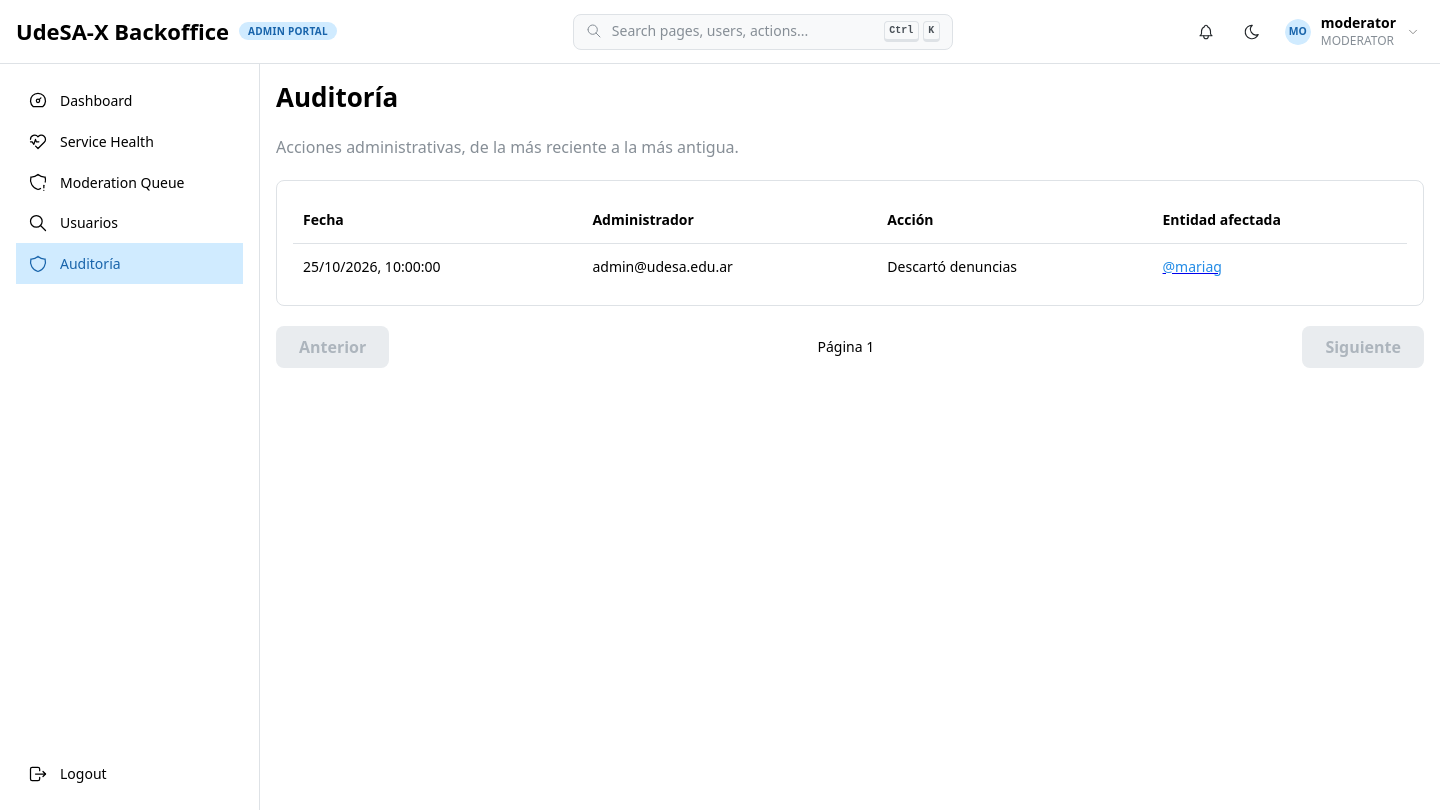
allows moderator to open the existing account detail from an audit handle
This screenshot has width=1440, height=810.
Click the link "@mariag": click(1192, 266) [1162,257,1222,276]
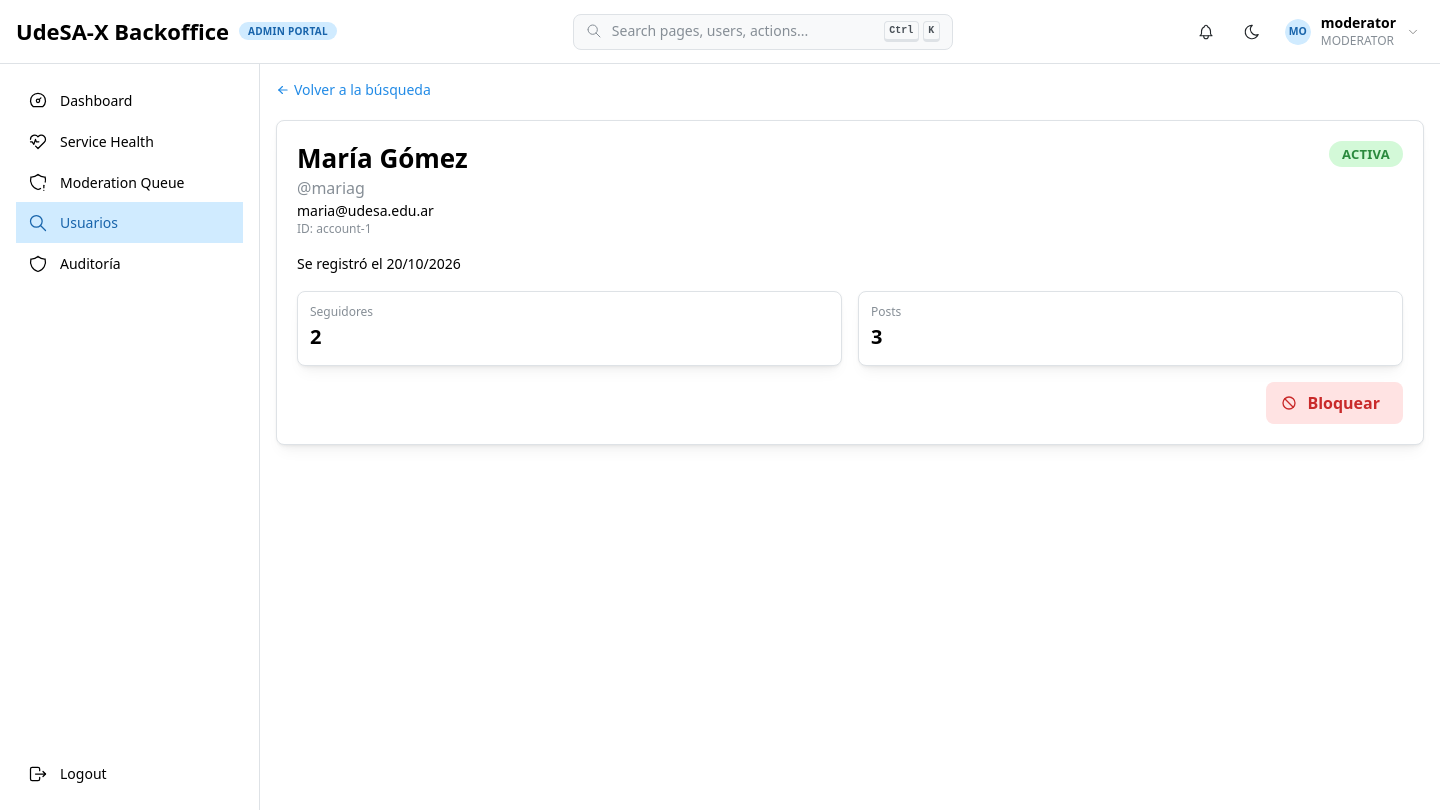
Result: the heading "María Gómez" is shown at [297,141,468,176]
Result: the text "maria@udesa.edu.ar" is shown at [297,201,434,220]
